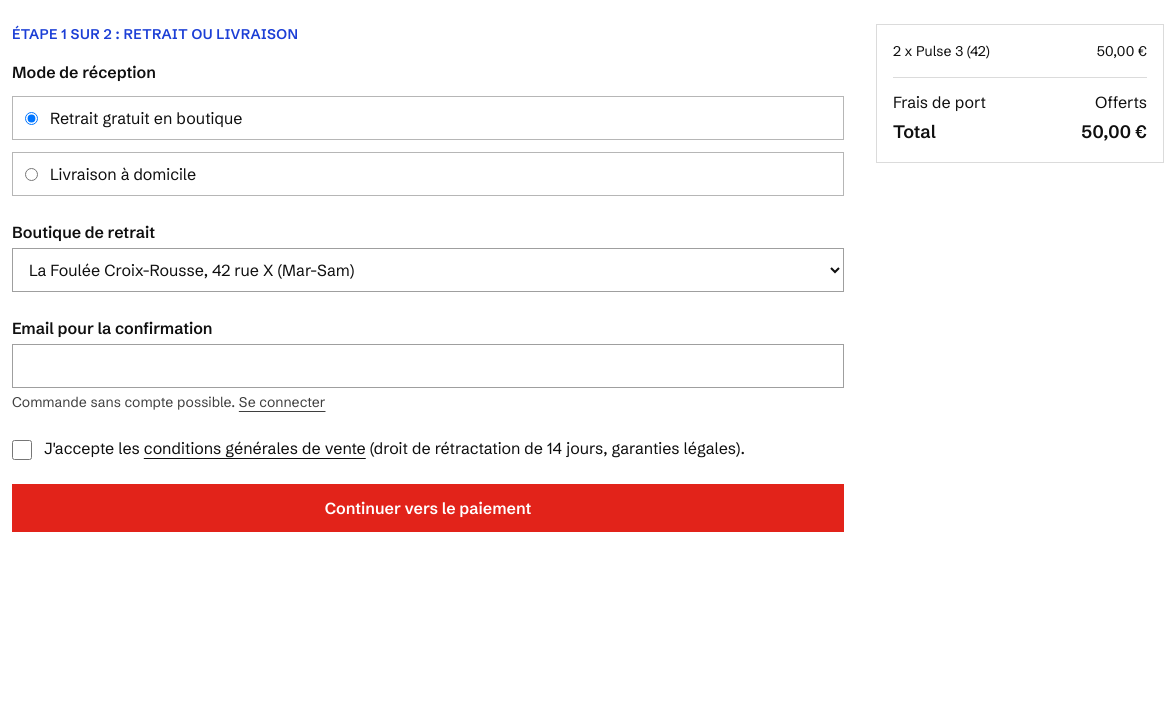
Test case: Checkout (EF05, EF06) › CGV non acceptées : message, aucune commande créée
Type "lea@exemple.fr" into the field labelled "Email pour la confirmation" at point(428, 366), box [12,344,844,388]
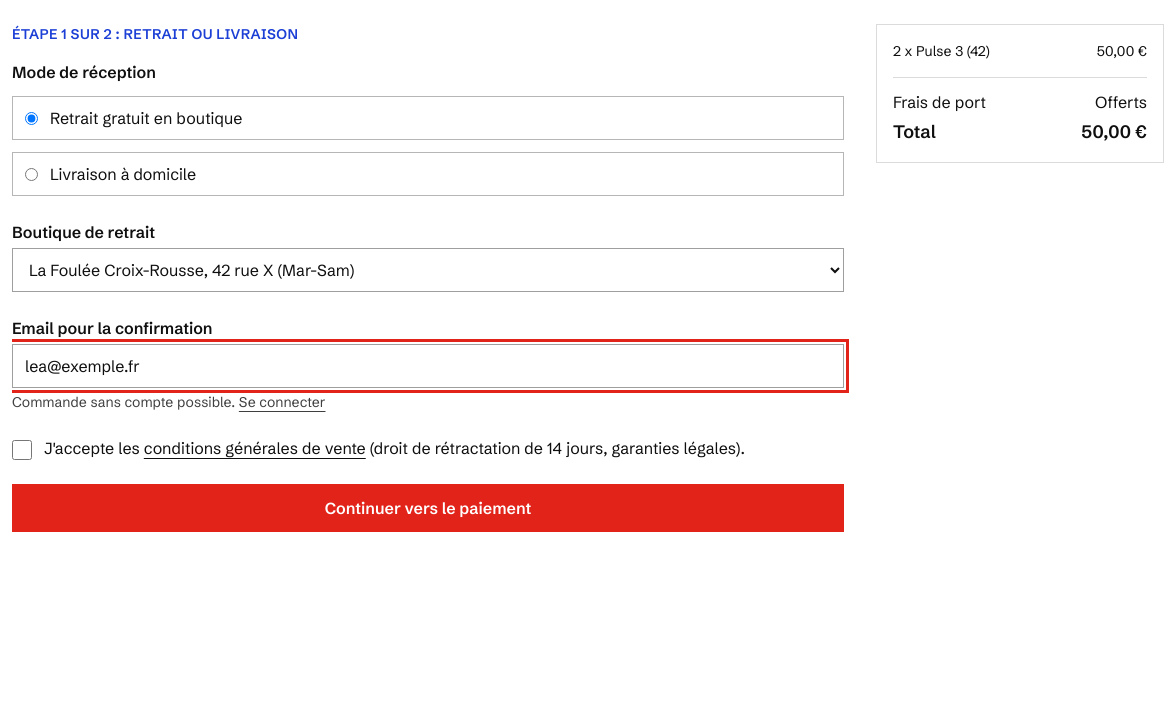
Click the button "Continuer vers le paiement" at point(428, 508), box [12,484,844,532]
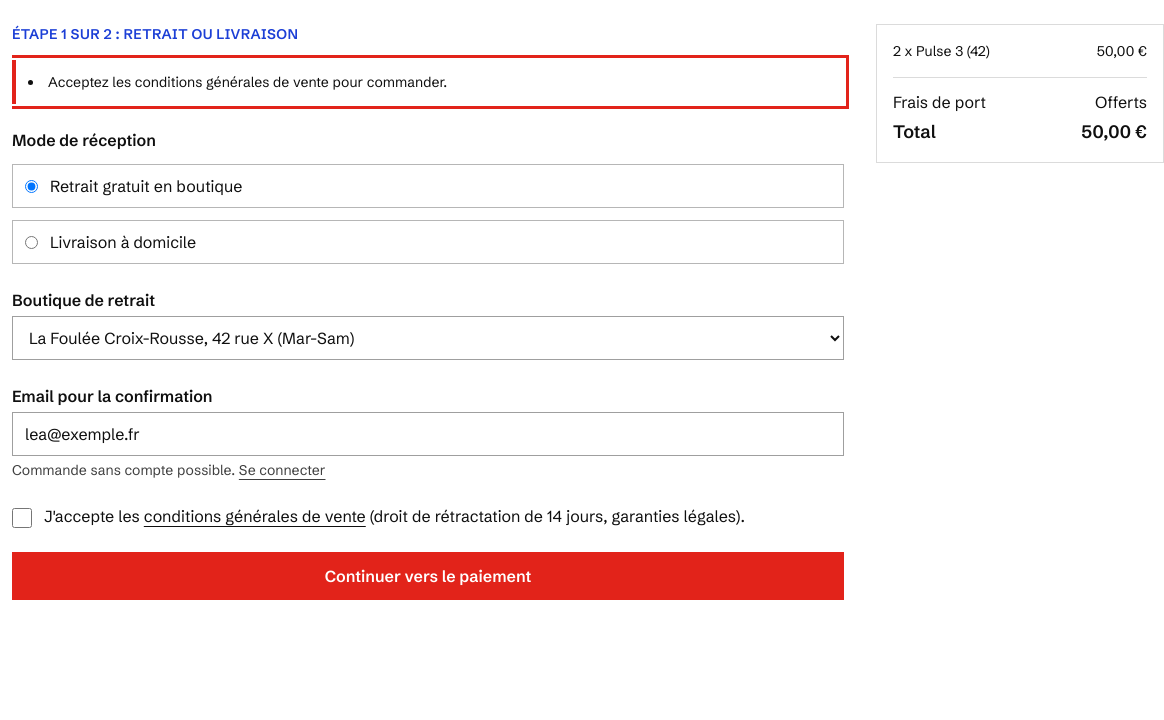
Expected: the message shows "conditions générales de vente", [48,73,447,91]
